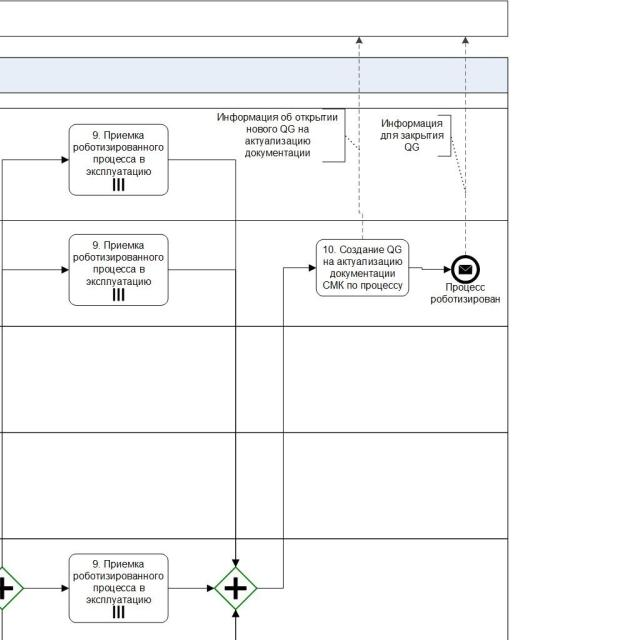arrow: (0, 154, 69, 566), (169, 158, 238, 568), (257, 262, 316, 590), (354, 37, 364, 240), (461, 36, 469, 254), (410, 264, 451, 274), (24, 584, 69, 593), (170, 584, 214, 592)
circle: (452, 255, 481, 284)
diamond: (214, 566, 258, 610)
rectangle: (69, 122, 169, 197), (69, 234, 168, 306), (69, 554, 168, 623), (316, 239, 409, 296)
text_region: (217, 111, 339, 159), (379, 118, 445, 153), (431, 283, 501, 305)
